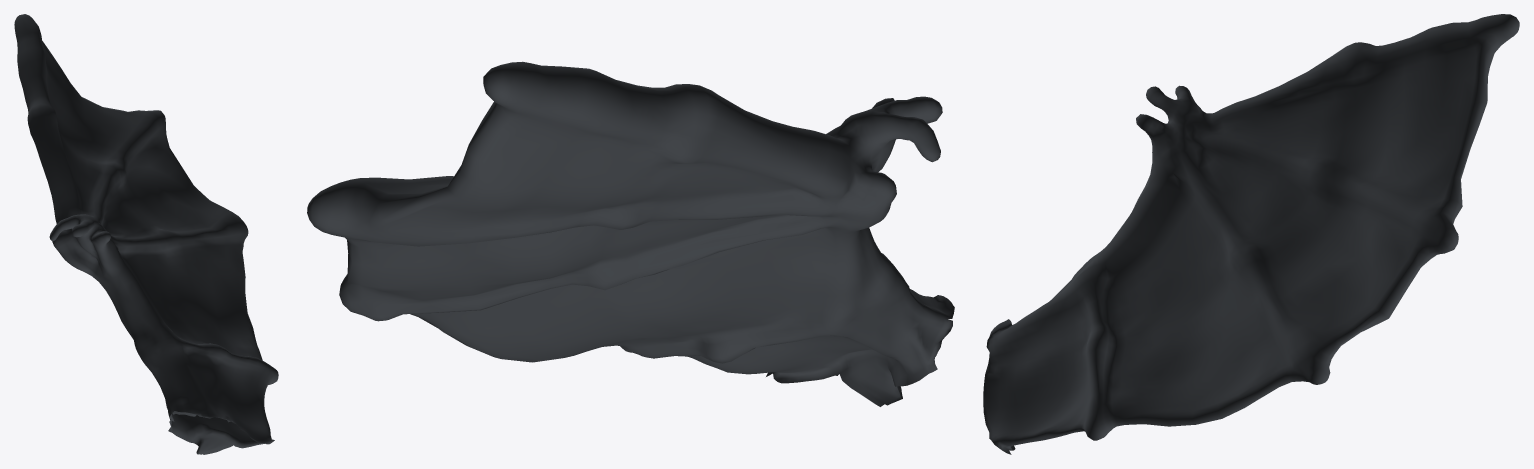
The model's file is ala_derecha.obj.
3 views of the same model, side by side, from view 1: azimuth 30°, elevation 25°; view 2: azimuth 150°, elevation 25°; view 3: azimuth 270°, elevation 25° (orthographic). The views are drawn at different scales.
Parts seen in each view (by area): view 1: ala_derecha; view 2: ala_derecha; view 3: ala_derecha.
Part boxes in pixels (x1,y1,x2,y2): ala_derecha: (14, 14, 278, 454); ala_derecha: (307, 61, 954, 406); ala_derecha: (983, 14, 1519, 454).
Bounding box in the file's own units: 6.31 × 7.43 × 8.95.
